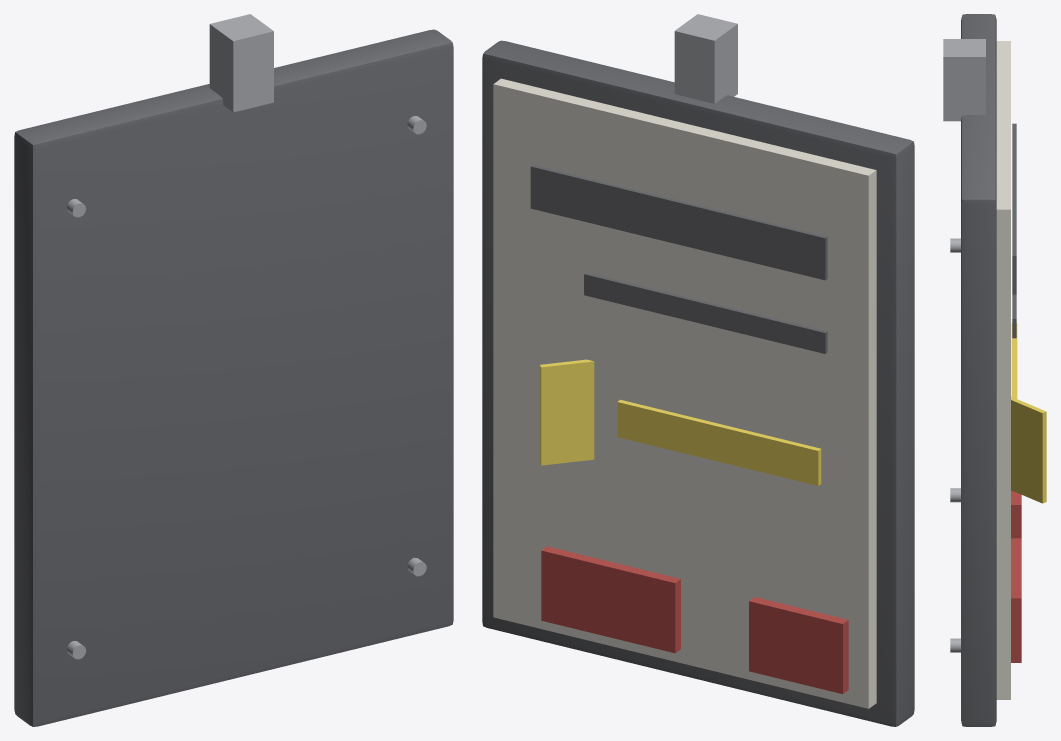
File: DD_sign.fbx
The picture shows the model from 3 angles, left to right: view 1: azimuth 30°, elevation 25°; view 2: azimuth 150°, elevation 25°; view 3: azimuth 270°, elevation 25°; orthographic projection. The views are drawn at different scales.
Parts seen in each view (by area): view 1: DD_sign; view 2: DD_sign; view 3: DD_sign.
Part boxes in pixels (x1,y1,x2,y2): DD_sign: (14, 14, 453, 726); DD_sign: (482, 14, 914, 726); DD_sign: (943, 14, 1046, 726).
Bounding box in the file's own units: 0.62 × 0.91 × 0.1453.
